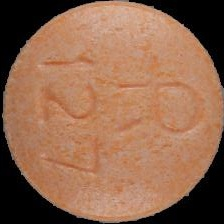63629-1328: (0, 0, 224, 224)
